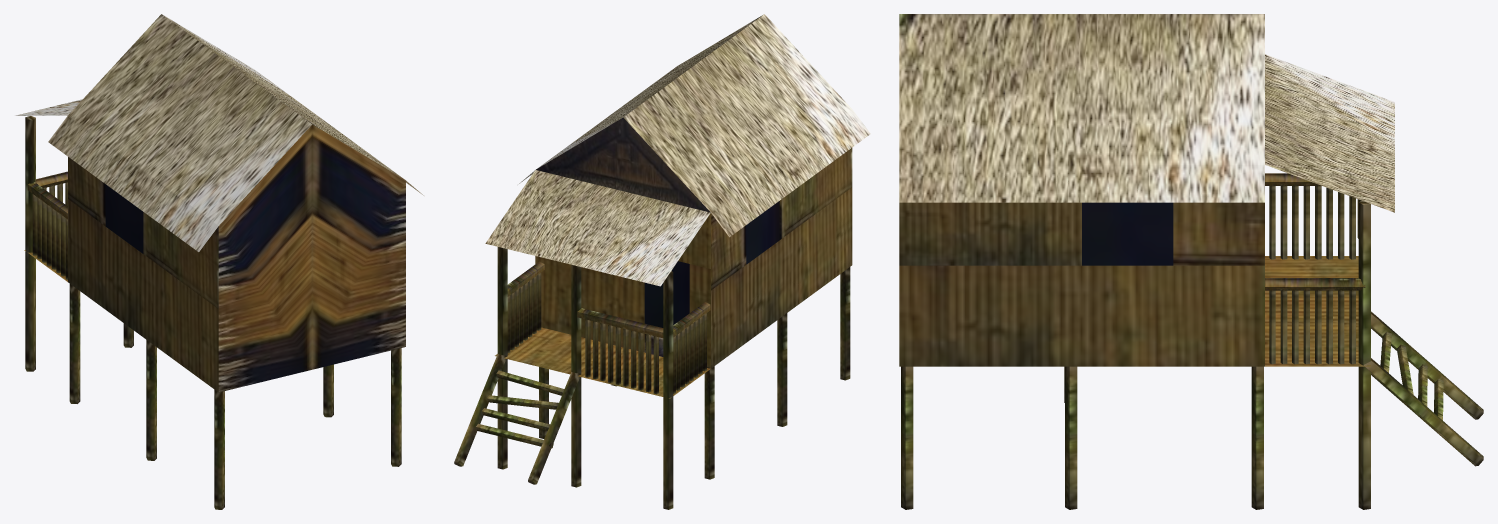
The model's file is Bahay kubo 3.fbx.
3 renders of one model, left to right at view 1: azimuth 30°, elevation 25°; view 2: azimuth 150°, elevation 25°; view 3: azimuth 270°, elevation 25°, orthographic. The views are drawn at different scales.
Visible parts, largest first — view 1: Cube.001, Cube.003, Front Wall.008, Front Wall.015, Plane.002, Front Wall.001, Front Wall.003, Front Wall.004, Front Wall.006, Front Wall.007, Front Wall.013; view 2: Cube.001, Cube.003, Cube.004, Front Wall.017, Front Wall.024, Front Wall.008, Front Wall.010, Front Wall.009, Front Wall.016, Front Wall.015, Plane, Plane.002 (+7 smaller); view 3: Cube.001, Cube.002, Plane.001, Front Wall.017, Front Wall.016, Front Wall.015, Front Wall.009, Front Wall.007, Front Wall.004, Front Wall.002, Front Wall.014.
Boxes of the visible parts, x1=… form: Cube.001: x1=15, y1=14, x2=423, y2=392; Cube.003: x1=68, y1=157, x2=218, y2=392; Front Wall.008: x1=25, y1=116, x2=35, y2=371; Front Wall.015: x1=32, y1=194, x2=67, y2=279; Plane.002: x1=105, y1=184, x2=143, y2=253; Front Wall.001: x1=69, y1=284, x2=80, y2=403; Front Wall.003: x1=214, y1=389, x2=224, y2=509; Front Wall.004: x1=391, y1=348, x2=401, y2=466; Front Wall.006: x1=146, y1=340, x2=156, y2=460; Front Wall.007: x1=323, y1=364, x2=333, y2=417; Front Wall.013: x1=27, y1=182, x2=67, y2=219; Cube.001: x1=485, y1=14, x2=870, y2=398; Cube.003: x1=711, y1=148, x2=852, y2=368; Cube.004: x1=535, y1=213, x2=710, y2=368; Front Wall.017: x1=454, y1=354, x2=581, y2=484; Front Wall.024: x1=585, y1=319, x2=658, y2=394; Front Wall.008: x1=663, y1=271, x2=673, y2=509; Front Wall.010: x1=571, y1=264, x2=581, y2=487; Front Wall.009: x1=497, y1=247, x2=507, y2=469; Front Wall.016: x1=507, y1=273, x2=541, y2=353; Front Wall.015: x1=673, y1=313, x2=706, y2=393; Plane: x1=644, y1=261, x2=689, y2=327; Plane.002: x1=746, y1=201, x2=779, y2=264; Cube.001: x1=899, y1=14, x2=1394, y2=366; Cube.002: x1=899, y1=202, x2=1264, y2=366; Plane.001: x1=1082, y1=202, x2=1173, y2=265; Front Wall.017: x1=1363, y1=311, x2=1483, y2=466; Front Wall.016: x1=1269, y1=290, x2=1355, y2=364; Front Wall.015: x1=1269, y1=185, x2=1355, y2=259; Front Wall.009: x1=1358, y1=200, x2=1370, y2=509; Front Wall.007: x1=1065, y1=366, x2=1077, y2=509; Front Wall.004: x1=901, y1=366, x2=913, y2=509; Front Wall.002: x1=1251, y1=366, x2=1263, y2=509; Front Wall.014: x1=1265, y1=278, x2=1365, y2=290.
Bounding box in the file's own units: 3.43 × 6.32 × 5.27.
3 materials, 3 textured.
